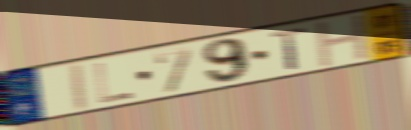7: (153, 45, 195, 95)
9: (202, 37, 253, 87)
H: (313, 11, 373, 70)
I: (71, 60, 91, 114)
L: (92, 61, 136, 105)
T: (269, 25, 309, 72)
